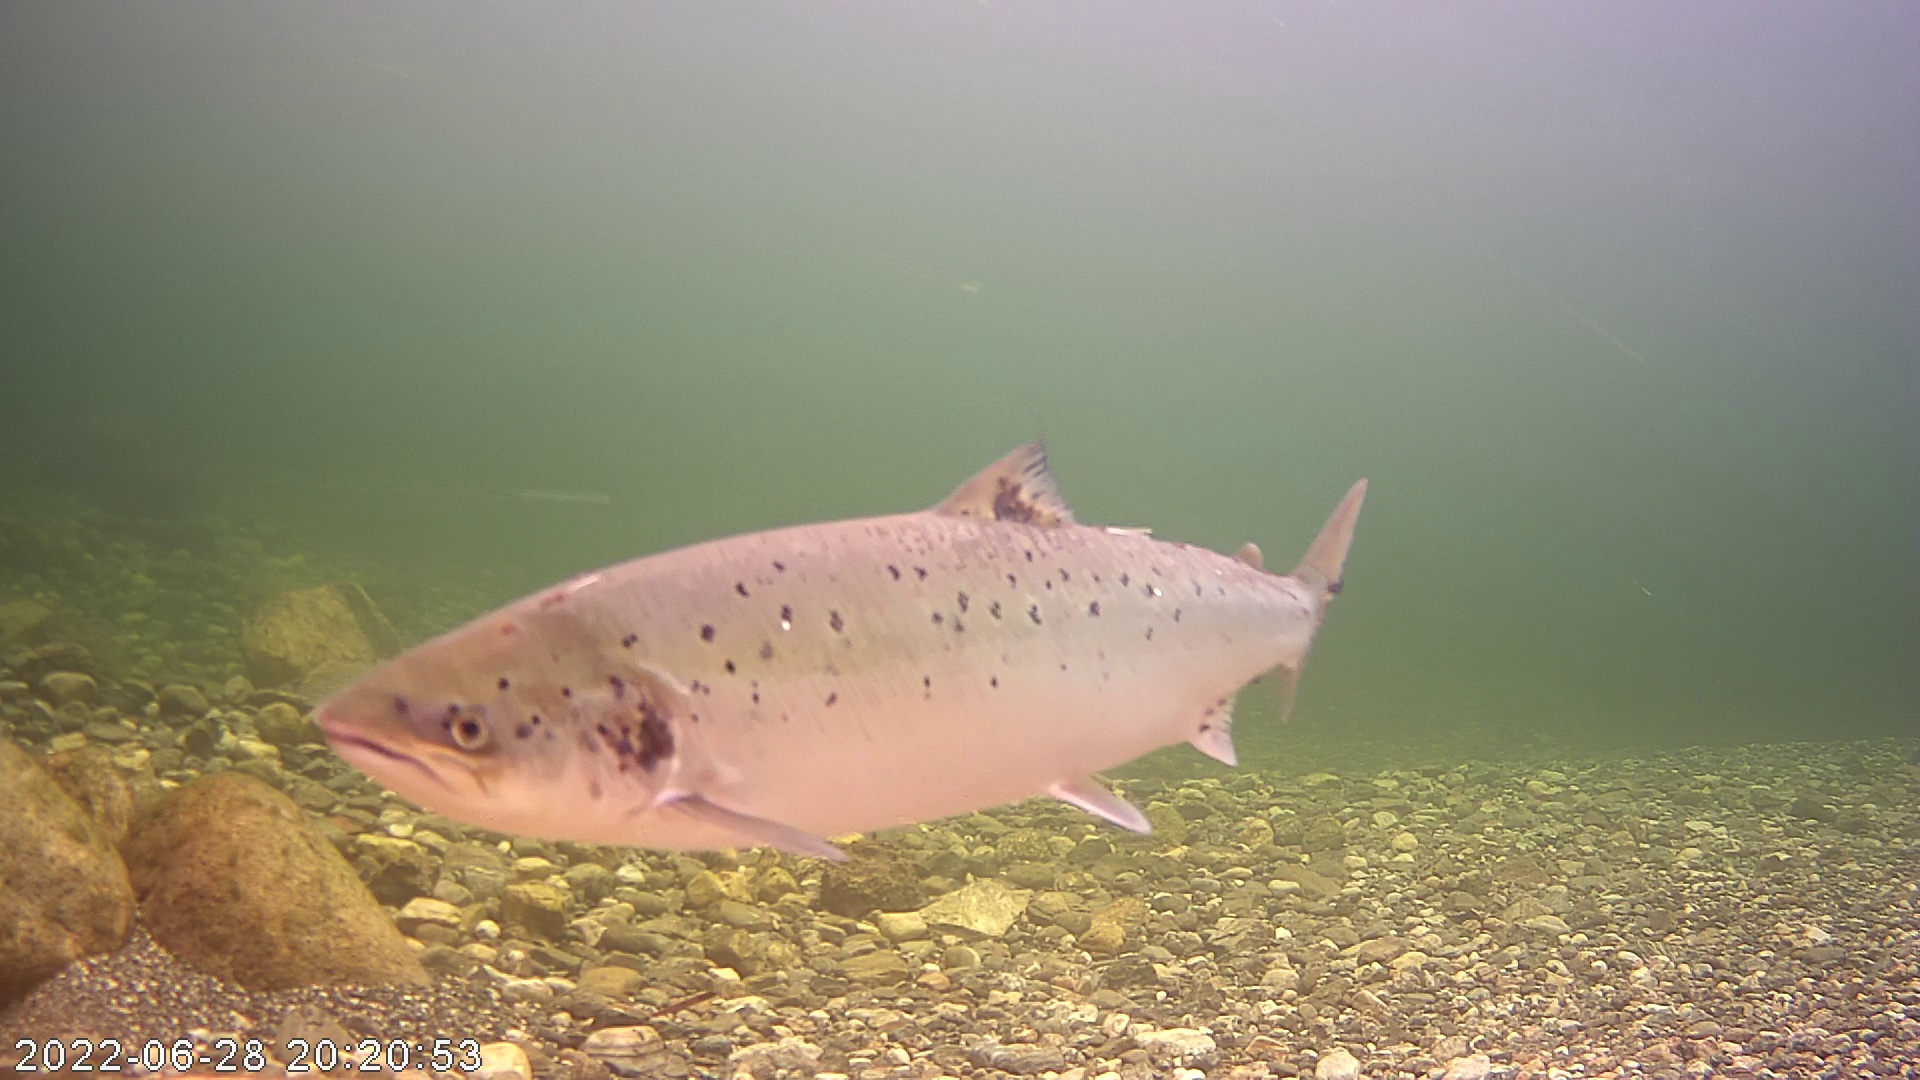salmon: (291, 382, 1365, 864)
